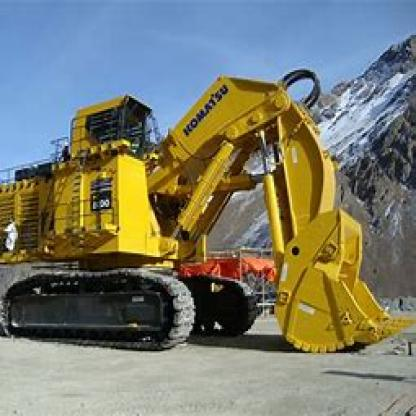excavator: (11, 67, 414, 370)
